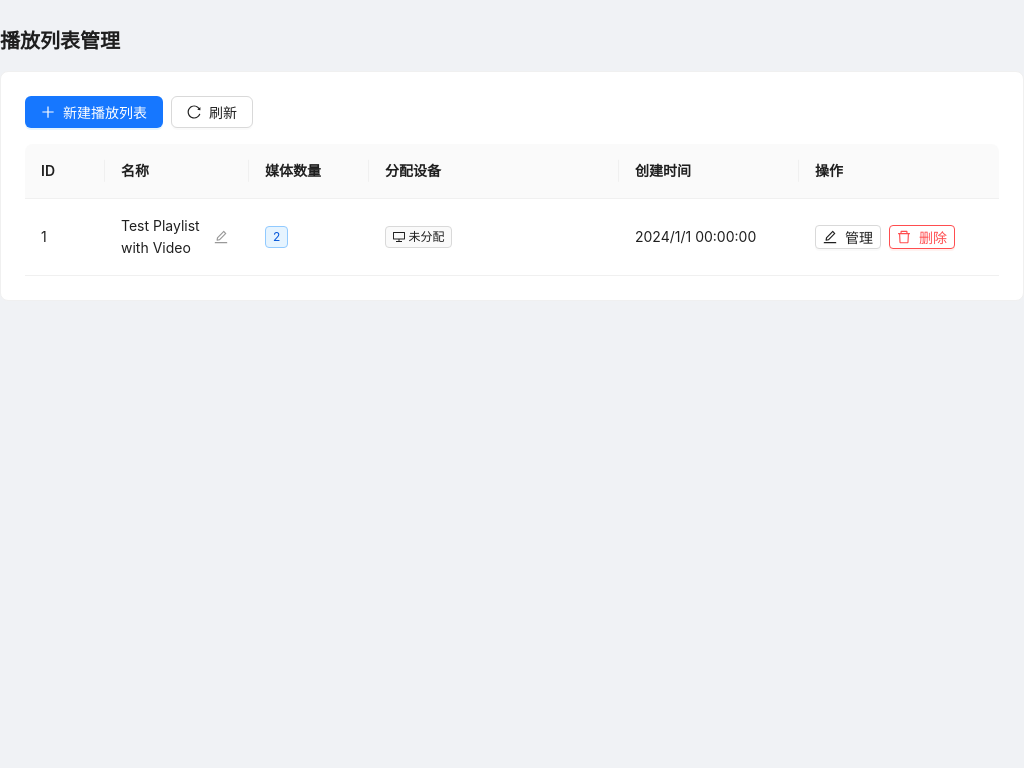
播放列表视频预览功能 › PPT 预览功能 › PPT 转换中时应显示加载状态和"暂不可预览"提示
This screenshot has width=1024, height=768.
Expected: the heading "播放列表管理" is shown, x1=0 y1=29 x2=120 y2=53
Click the button "管理" at x=848, y=237, box x1=815 y1=225 x2=881 y2=249
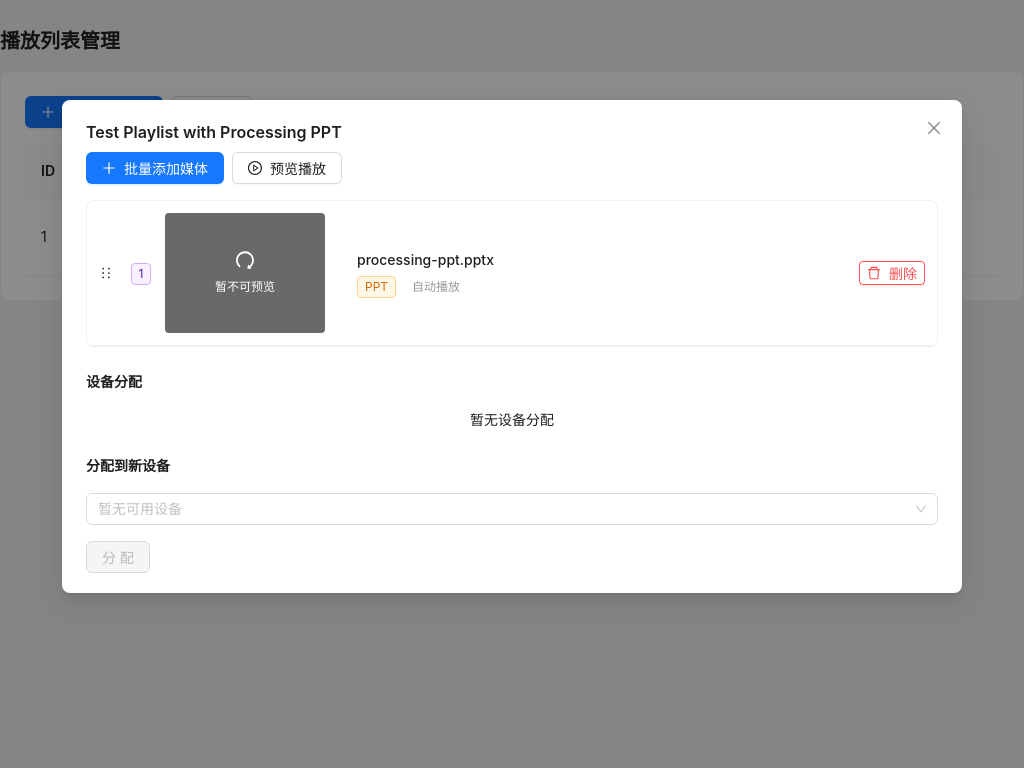
Expected: the text "Test Playlist with Processing PPT" is shown, x1=86 y1=122 x2=342 y2=142
Expected: the text "暂不可预览" is shown, x1=215 y1=278 x2=275 y2=296
